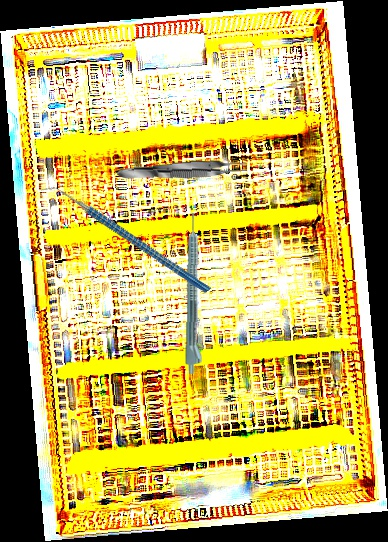Chopper: (38, 143, 212, 336)
Handpiece: (184, 212, 207, 375)
Tissue Forceps: (116, 157, 248, 183)
